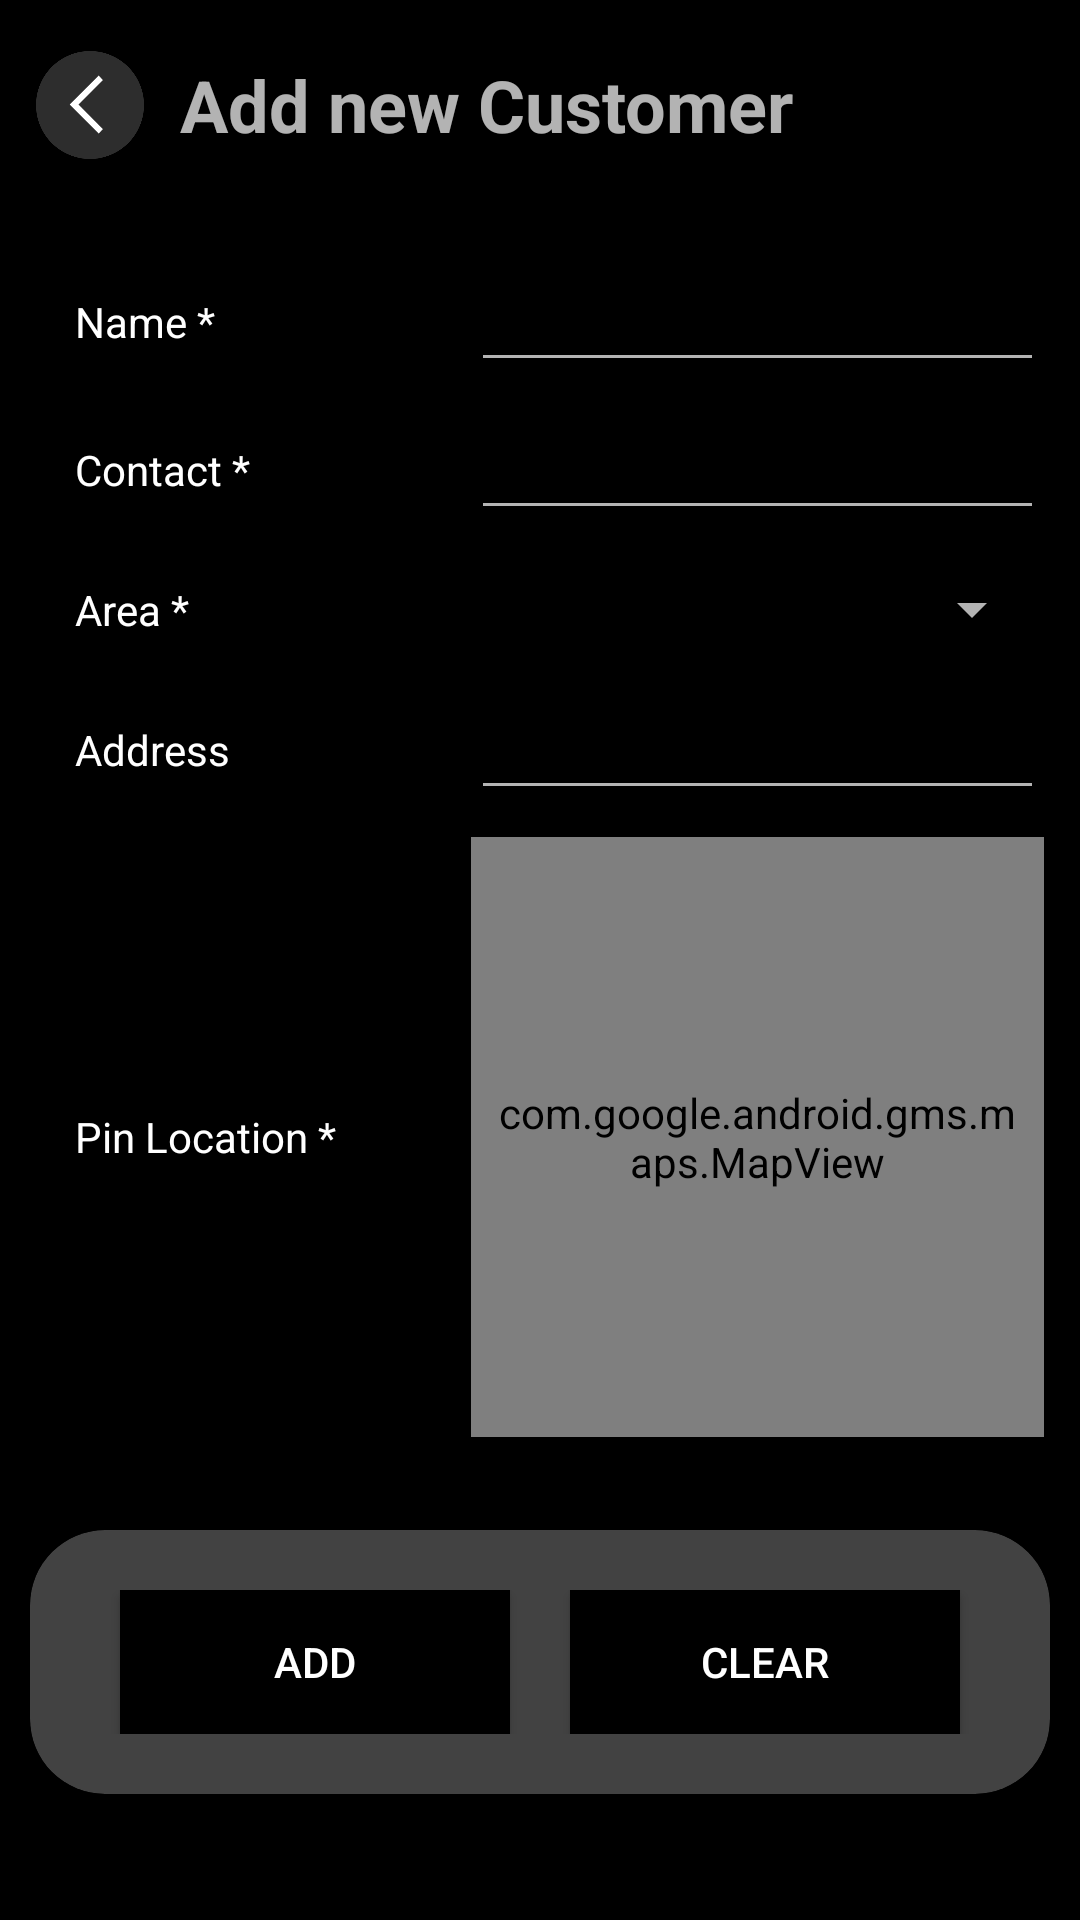

Where icons sit on this 1080px×1920px app screen, as bbox(x1, y1, x2, y2):
back: bbox(36, 51, 144, 159)
